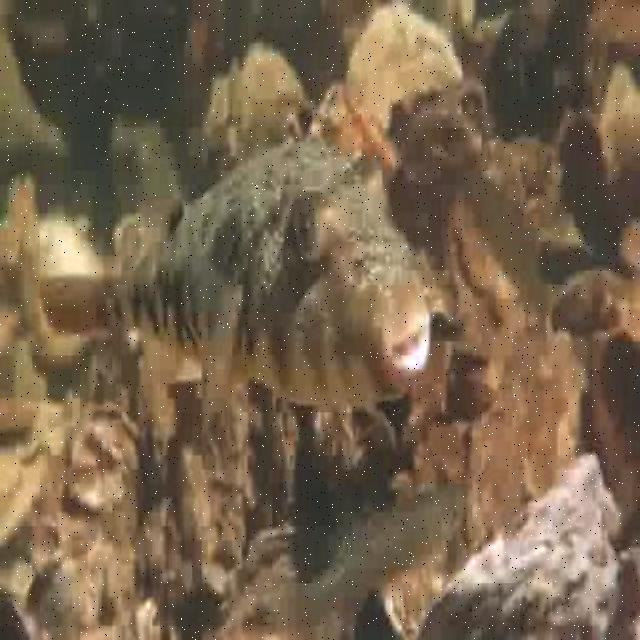Oyster-Closed: (431, 455, 623, 638), (461, 325, 588, 546), (200, 527, 354, 638), (353, 7, 460, 117), (67, 401, 145, 511), (309, 84, 398, 174), (230, 50, 299, 158), (394, 100, 482, 181), (37, 220, 111, 311), (599, 57, 638, 222), (551, 265, 627, 334), (0, 439, 29, 538)
Oyster-Open: (450, 201, 531, 343)
